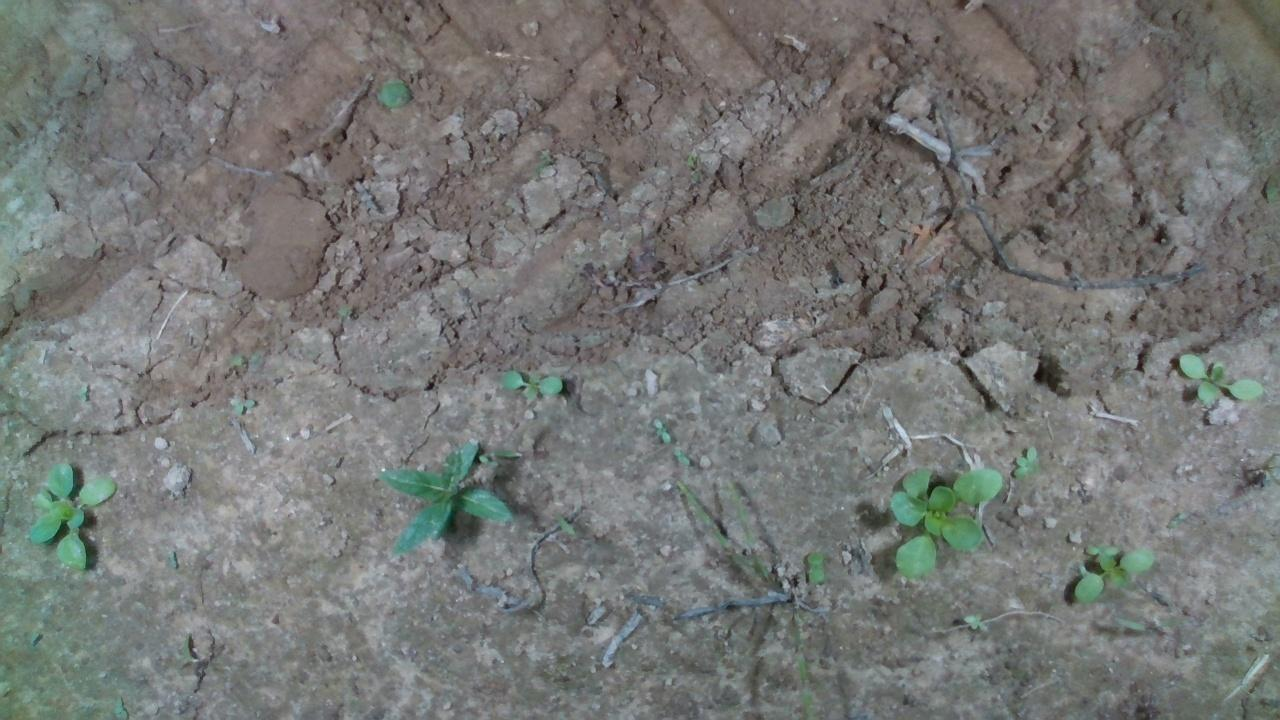weed: (1175, 351, 1264, 403), (499, 368, 563, 400), (1010, 443, 1041, 478), (226, 388, 255, 414), (804, 548, 825, 583), (962, 610, 988, 632), (652, 417, 670, 444), (670, 446, 689, 466)
